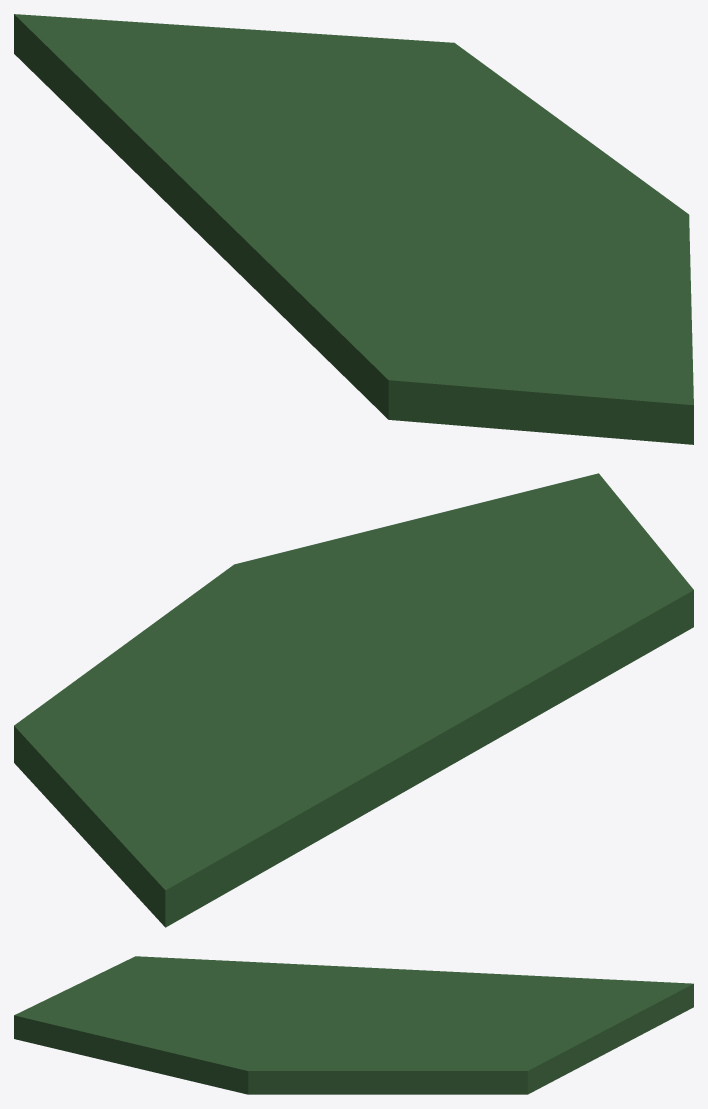
File: x_proval_00_94_1_rmstrd.fbx
3 views of the same model, one above another, from view 1: azimuth 30°, elevation 25°; view 2: azimuth 150°, elevation 25°; view 3: azimuth 270°, elevation 25° (orthographic). The views are drawn at different scales.
Visible parts, largest first — view 1: x_proval_00_94_1_rmstrd1; view 2: x_proval_00_94_1_rmstrd1; view 3: x_proval_00_94_1_rmstrd1.
Part boxes in pixels (x1,y1,x2,y2): x_proval_00_94_1_rmstrd1: (14, 14, 693, 444); x_proval_00_94_1_rmstrd1: (14, 473, 693, 927); x_proval_00_94_1_rmstrd1: (14, 956, 693, 1094).
Bounding box in the file's own units: 2.08 × 0.2 × 5.21.
